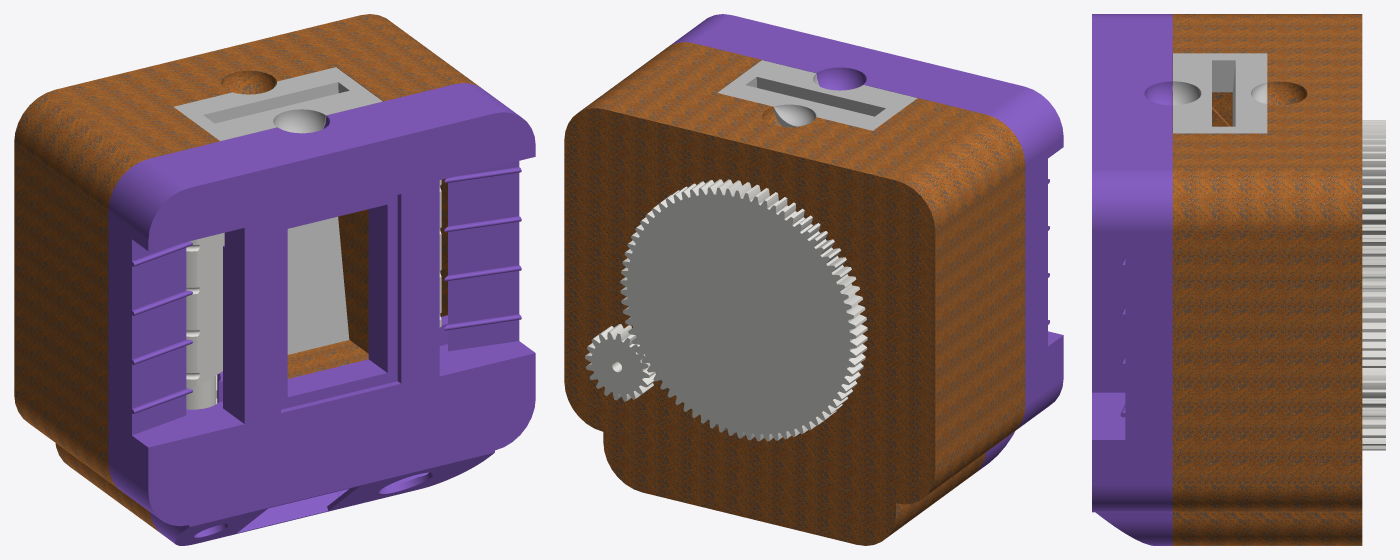
The model's file is projekt.glb.
3 renders of one model, left to right at view 1: azimuth 30°, elevation 25°; view 2: azimuth 150°, elevation 25°; view 3: azimuth 270°, elevation 25°, orthographic. The views are drawn at different scales.
Visible parts, largest first — view 1: Těleso1 (×3), Solid1; view 2: Těleso1 (×3), Solid1 (×2); view 3: Těleso1 (×3), Solid1 (×2).
Part boxes in pixels (left/top/right/bottom): Těleso1 (×3): left=14, top=14, right=535, bottom=545; Solid1: left=186, top=232, right=224, bottom=409; Těleso1 (×3): left=564, top=14, right=1063, bottom=545; Solid1 (×2): left=585, top=179, right=867, bottom=441; Těleso1 (×3): left=1092, top=14, right=1362, bottom=545; Solid1 (×2): left=1362, top=120, right=1385, bottom=450.
Size of the model in its own units: 0.19 by 0.183 by 0.124.
5 materials, 1 textured.
